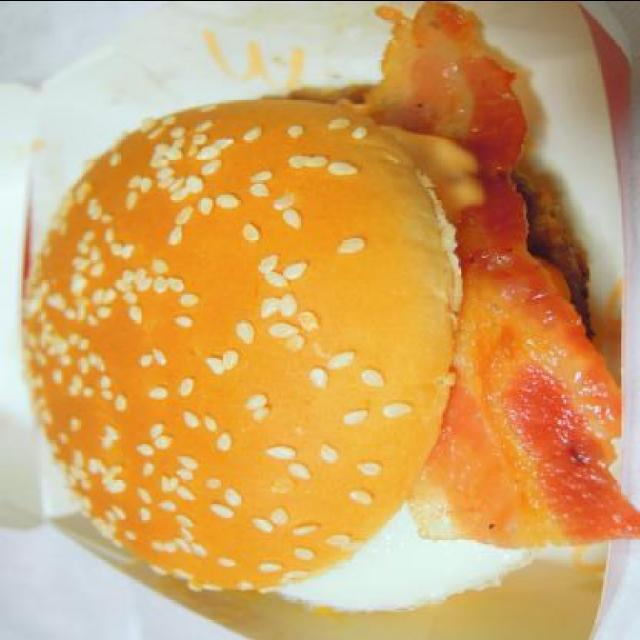Hamburger: (19, 0, 639, 614)
